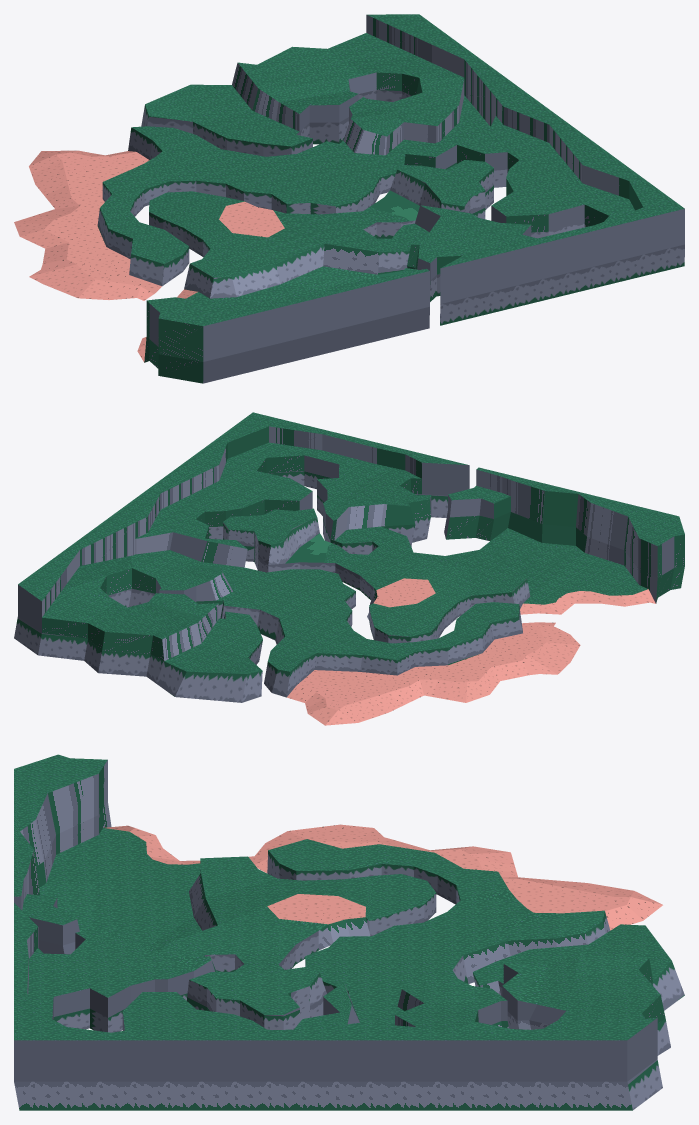
Rendered from forestLevel.fbx.
3 renders of one model, top to bottom at view 1: azimuth 30°, elevation 25°; view 2: azimuth 150°, elevation 25°; view 3: azimuth 270°, elevation 25°, orthographic. The views are drawn at different scales.
Parts seen in each view (by area): view 1: Forest; view 2: Forest; view 3: Forest.
Boxes of the visible parts, x1=… form: Forest: x1=14, y1=14, x2=684, y2=383; Forest: x1=14, y1=412, x2=684, y2=725; Forest: x1=14, y1=754, x2=684, y2=1110.
Bounding box in the file's own units: 2548 × 306 × 2517.
